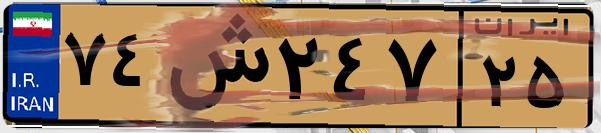2: (270, 28, 330, 110), (475, 38, 525, 113)
4: (330, 28, 385, 110), (110, 28, 158, 98)
5: (525, 38, 570, 115)
7: (385, 28, 445, 110), (57, 26, 110, 100)
ش: (158, 12, 270, 120)
